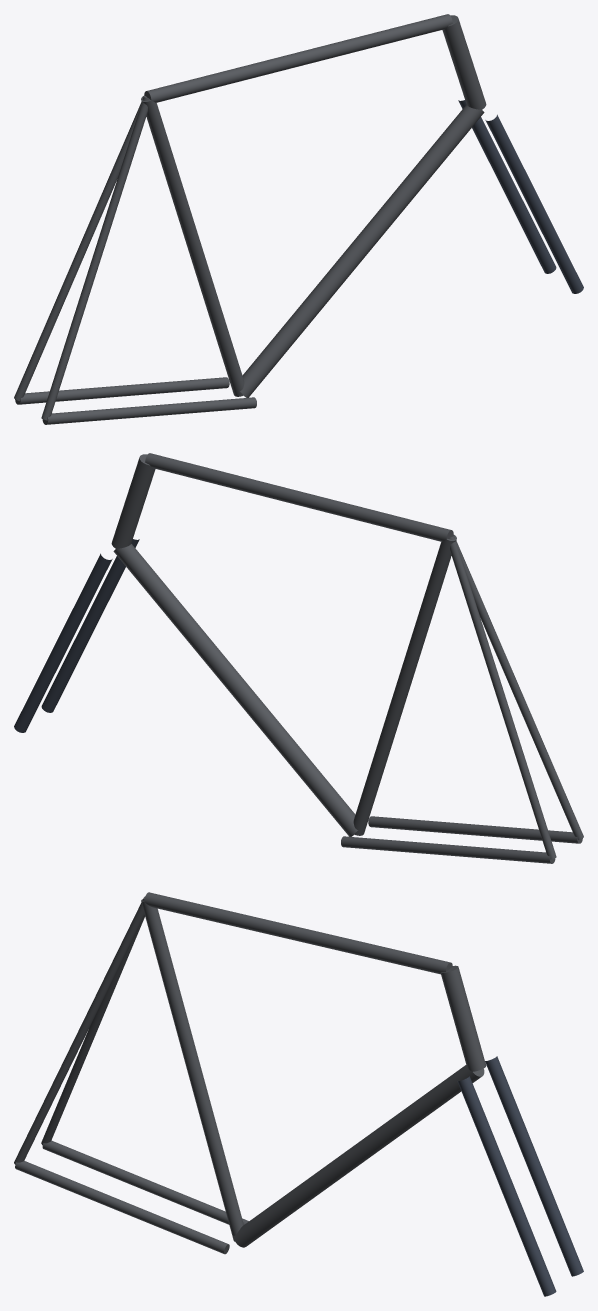
The model's file is wabi-prism-60.glb.
3 renders of one model, top to bottom at view 1: azimuth 30°, elevation 25°; view 2: azimuth 150°, elevation 25°; view 3: azimuth 330°, elevation 25°, orthographic.
Visible parts, largest first — view 1: paint_down, paint_top, paint_seat, paint_seatstay_0.045, fork_0.045, paint_seatstay_-0.045, paint_chainstay_0.045, paint_chainstay_-0.045, fork_-0.045, paint_head; view 2: paint_down, paint_top, paint_seat, paint_seatstay_-0.045, fork_-0.045, paint_seatstay_0.045, paint_chainstay_-0.045, paint_chainstay_0.045, fork_0.045, paint_head; view 3: paint_down, paint_seat, paint_top, fork_0.045, fork_-0.045, paint_chainstay_0.045, paint_seatstay_0.045, paint_chainstay_-0.045, paint_head, paint_seatstay_-0.045.
Boxes of the visible parts, x1=… form: paint_down: x1=240, y1=105, x2=484, y2=397; paint_top: x1=144, y1=14, x2=452, y2=102; paint_seat: x1=141, y1=95, x2=244, y2=396; paint_seatstay_0.045: x1=41, y1=97, x2=149, y2=420; fork_0.045: x1=485, y1=114, x2=583, y2=293; paint_seatstay_-0.045: x1=14, y1=96, x2=147, y2=400; paint_chainstay_0.045: x1=42, y1=397, x2=256, y2=424; paint_chainstay_-0.045: x1=15, y1=377, x2=229, y2=404; fork_-0.045: x1=458, y1=100, x2=556, y2=273; paint_head: x1=442, y1=15, x2=486, y2=109; paint_down: x1=113, y1=544, x2=357, y2=836; paint_top: x1=145, y1=453, x2=453, y2=541; paint_seat: x1=353, y1=534, x2=456, y2=835; paint_seatstay_-0.045: x1=448, y1=536, x2=556, y2=859; fork_-0.045: x1=14, y1=553, x2=112, y2=732; paint_seatstay_0.045: x1=450, y1=535, x2=583, y2=839; paint_chainstay_-0.045: x1=341, y1=836, x2=555, y2=863; paint_chainstay_0.045: x1=368, y1=816, x2=582, y2=843; fork_0.045: x1=41, y1=539, x2=139, y2=712; paint_head: x1=111, y1=454, x2=155, y2=548; paint_down: x1=233, y1=1065, x2=484, y2=1247; paint_seat: x1=141, y1=899, x2=243, y2=1241; paint_top: x1=144, y1=892, x2=452, y2=974; fork_0.045: x1=457, y1=1076, x2=556, y2=1296; fork_-0.045: x1=485, y1=1056, x2=583, y2=1276; paint_chainstay_0.045: x1=15, y1=1161, x2=229, y2=1254; paint_seatstay_0.045: x1=14, y1=897, x2=144, y2=1164; paint_chainstay_-0.045: x1=42, y1=1140, x2=248, y2=1224; paint_head: x1=440, y1=965, x2=486, y2=1071; paint_seatstay_-0.045: x1=41, y1=896, x2=145, y2=1144.
Bounding box in the file's own units: 1.02 × 0.6029 × 0.112.
